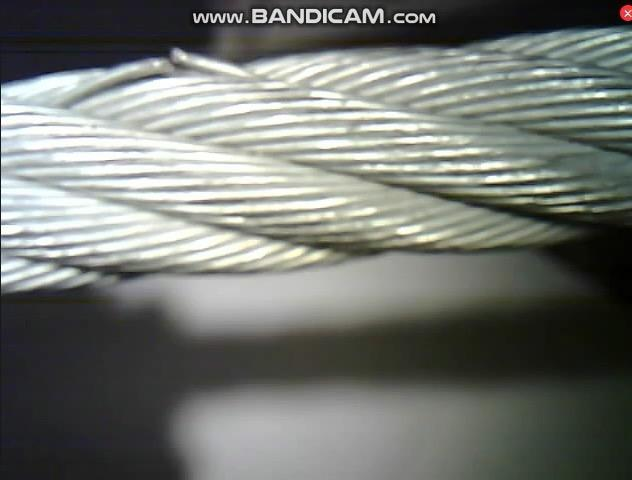break: (107, 44, 229, 92)
